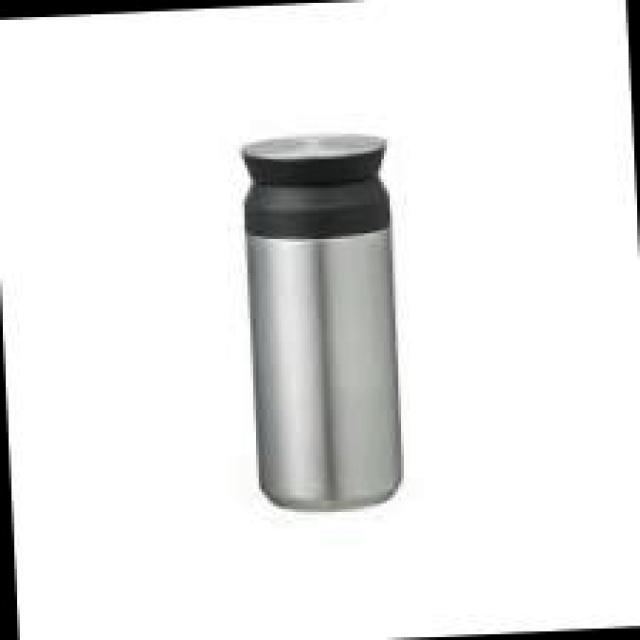bottle: (236, 128, 404, 512)
